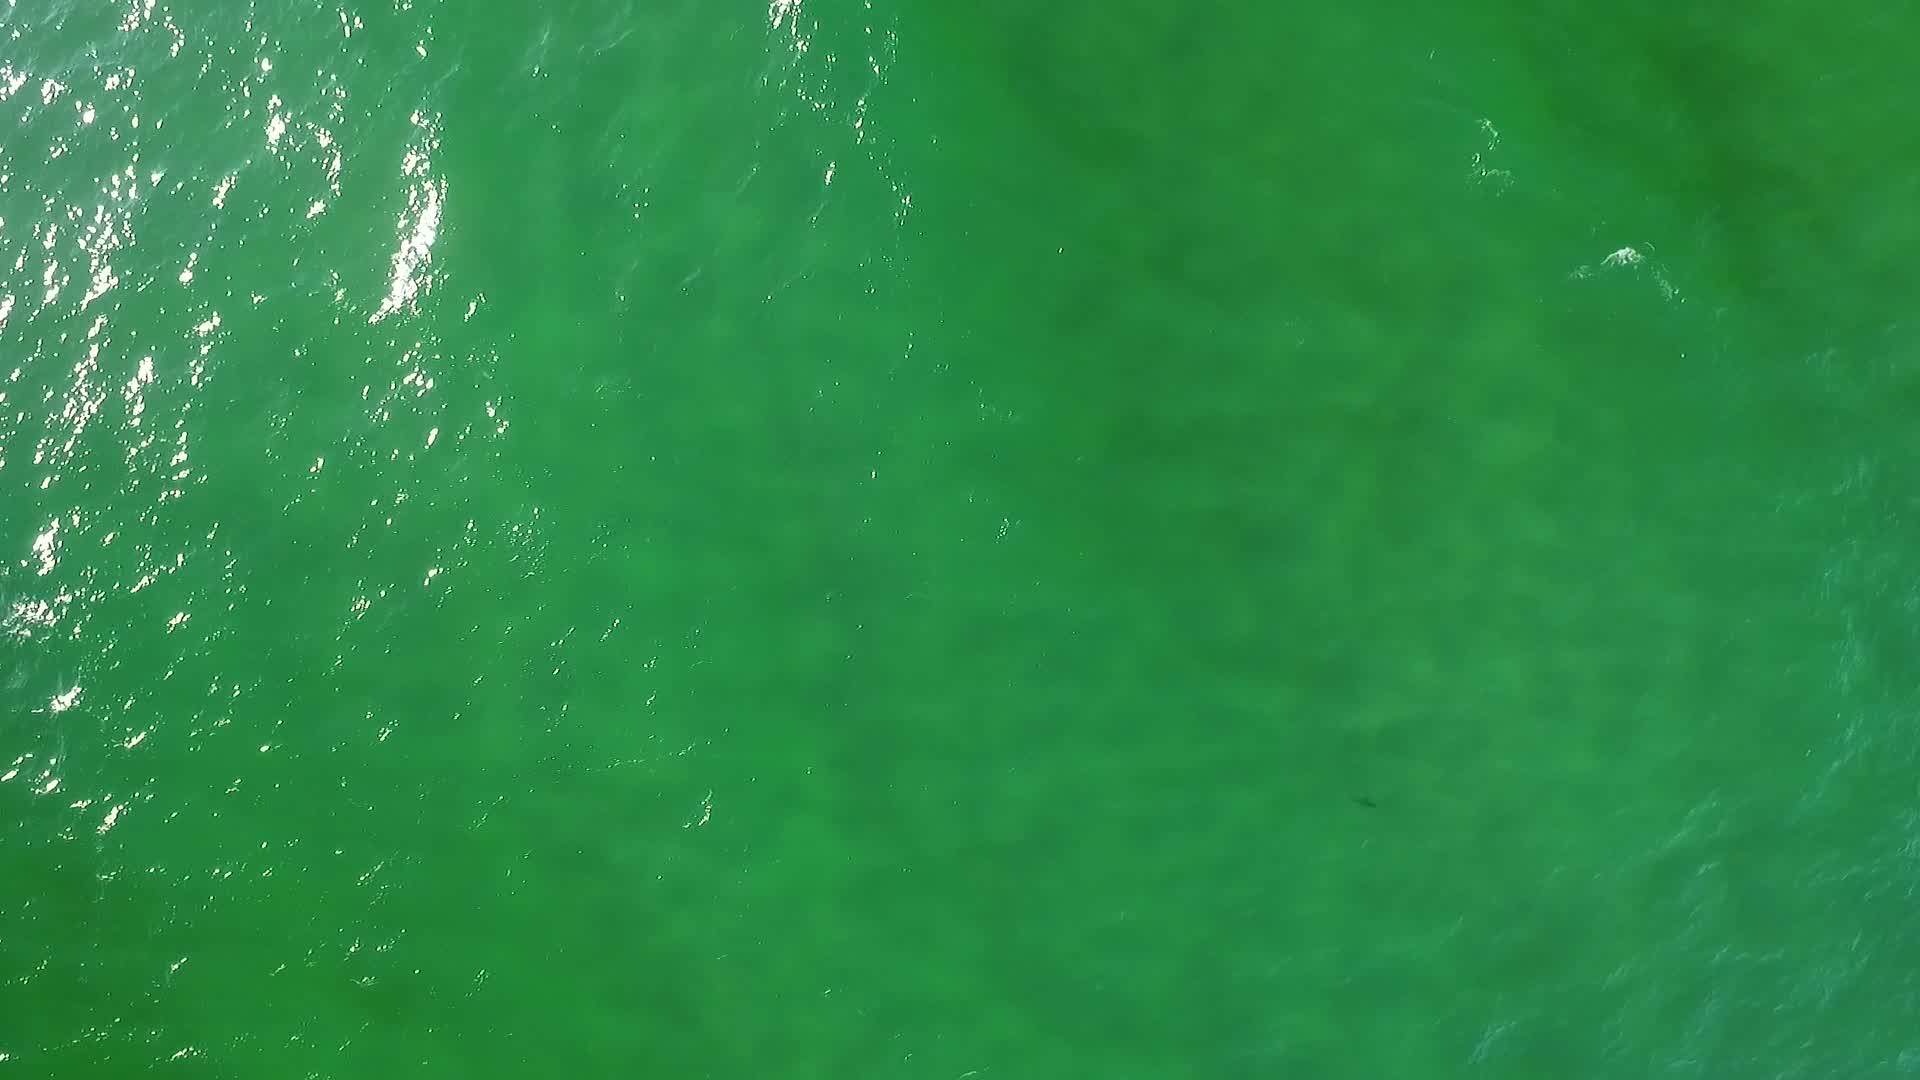shark: (1344, 795, 1382, 811)
